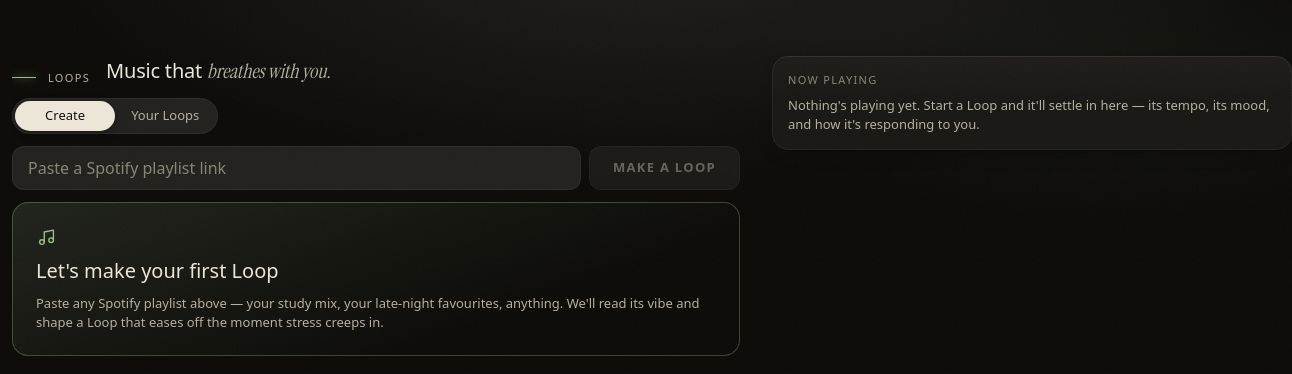
Loops — Create › turns a pasted playlist into a Loop
Expected: the text "Let's make your first Loop" is shown, [36,256,278,286]
Type "https://open.spotify.com/playlist/3otkFuN9NnmLTHUgX8qe2z?si=x" into the field labelled "Spotify playlist link".
click(296, 168); type("https://open.spotify.com/playlist/3otkFuN9NnmLTHUgX8qe2z?si=x")  # box [12,146,581,190]
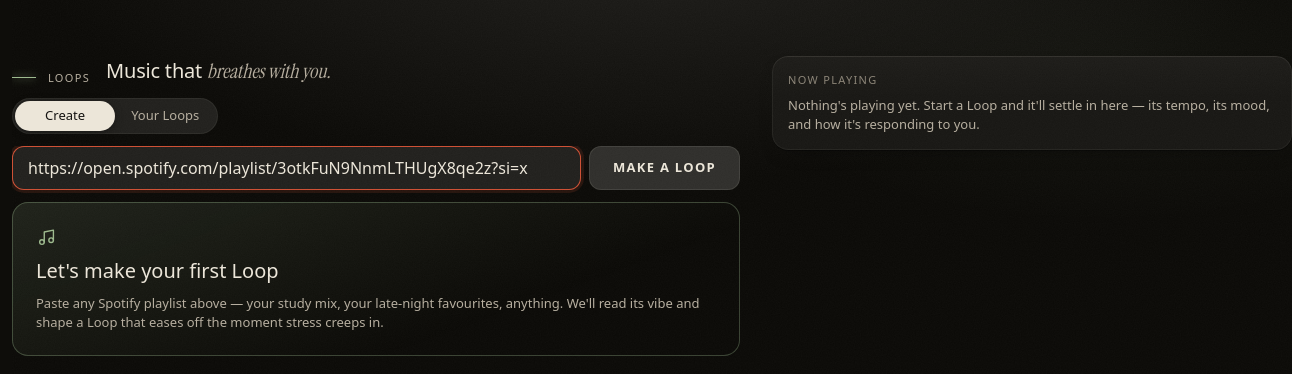
Click the button "Make a Loop".
click(664, 168)  # box [589,146,740,190]
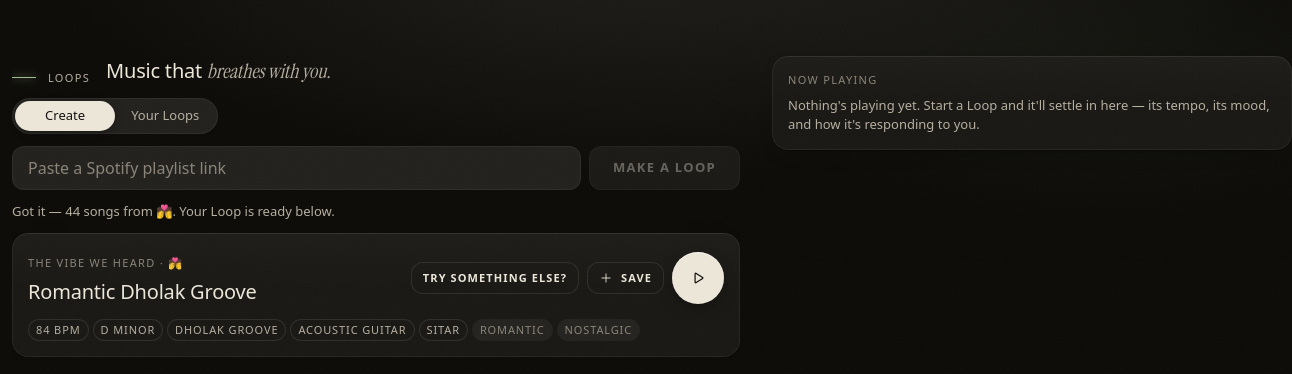
Result: the text "Got it — 44 songs from 💏. Your Loop is ready below." is shown at [12,202,335,220]
Result: the text "Romantic Dholak Groove" is shown at [28,277,257,307]
Result: the list item "84 BPM" is shown at [28,319,88,341]
